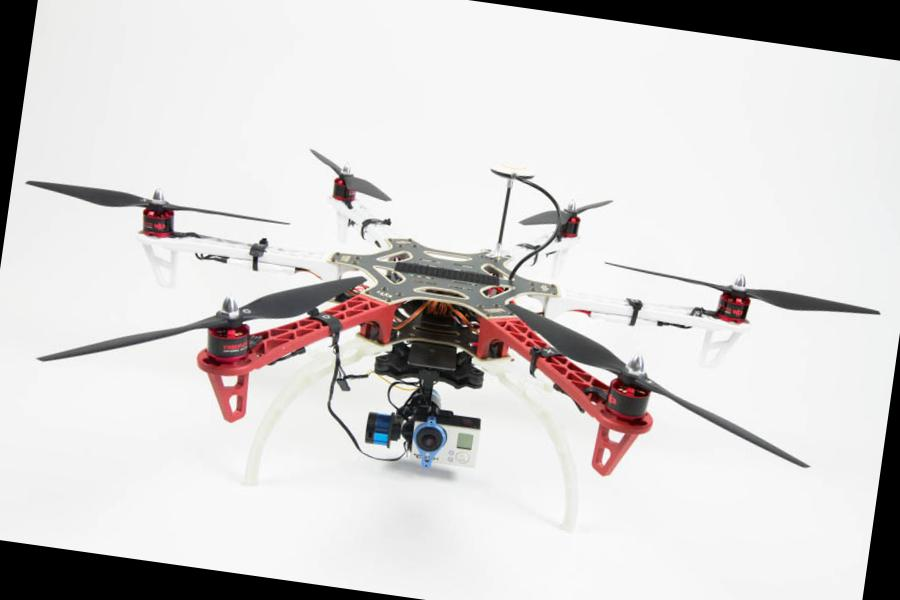drone: (0, 79, 900, 547)
